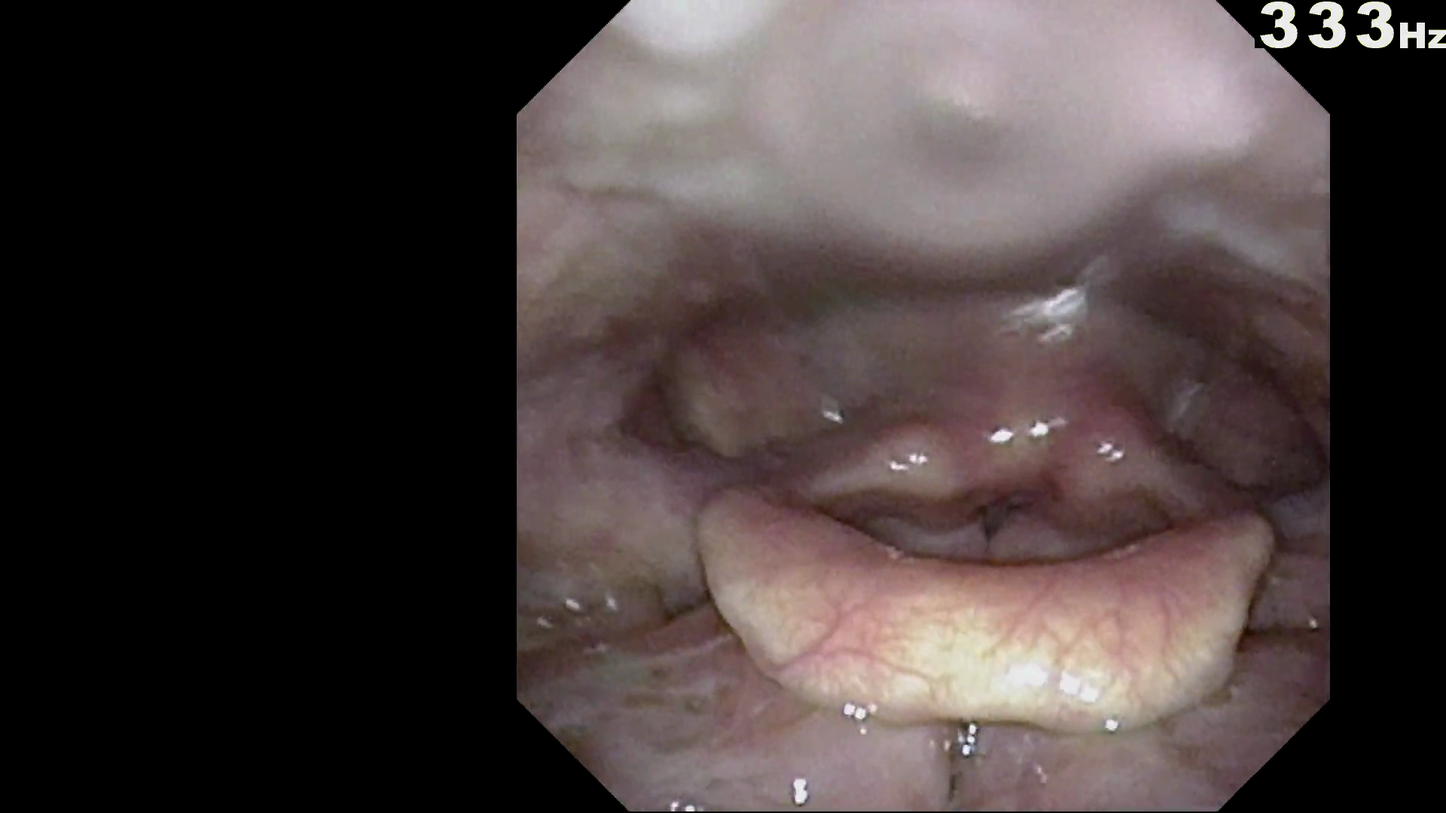epiglottis: (671, 506, 1280, 731)
trachea: (970, 487, 1033, 548)
